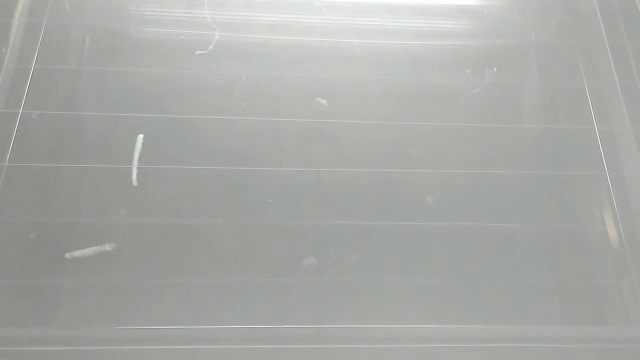alpha: (62, 241, 121, 263), (129, 131, 147, 188)
